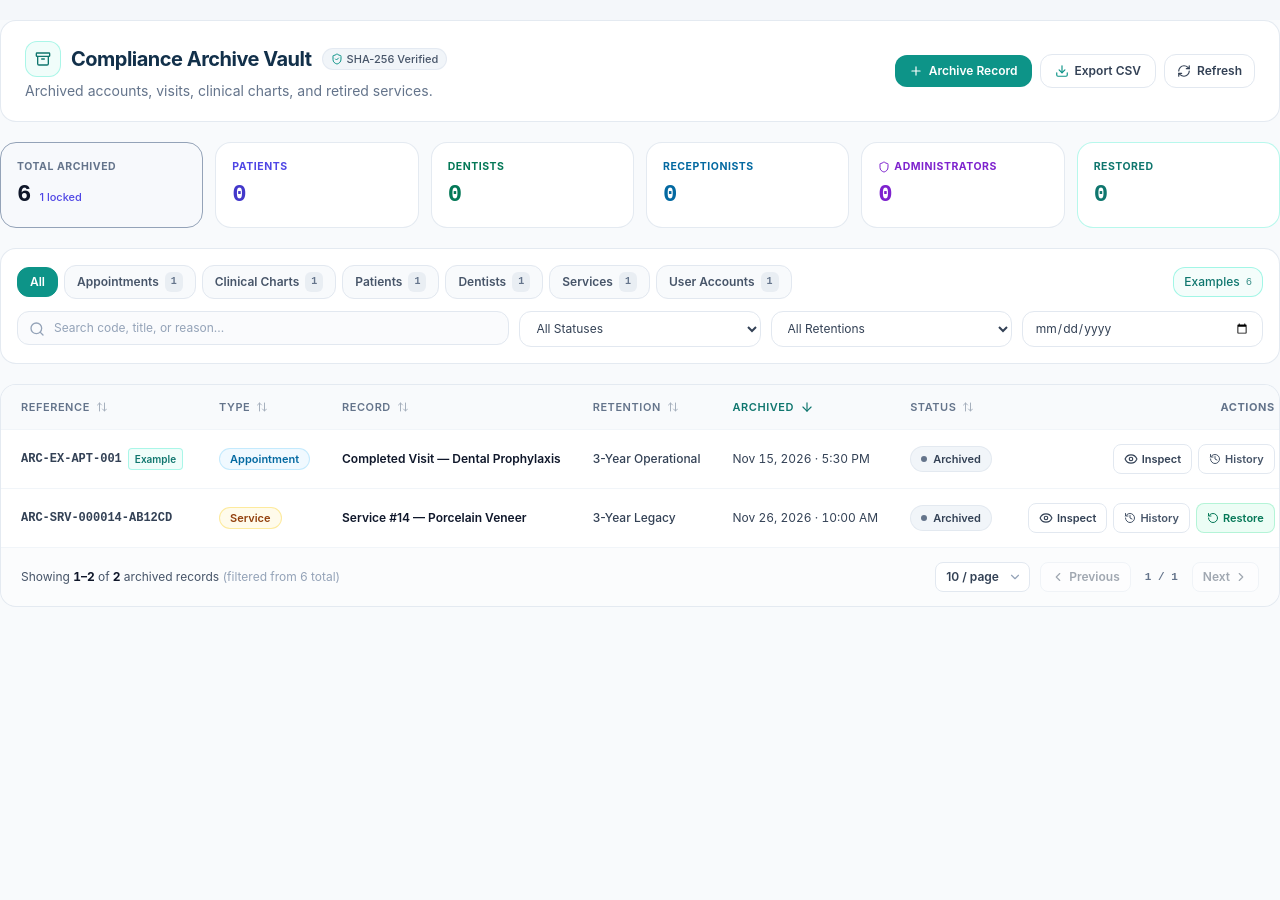
ArchiveCenterPage (Role-Aware Compliance Archive Vault) › renders Admin Archive Vault with KPIs, Example badges, snapshot SHA-256 inspector, archive creation, and restore flow
Later steps or results of the test are not shown.
expect the heading "Compliance Archive Vault" is shown: met, box top-left (71, 45), bottom-right (312, 73)
expect the text "ARC-EX-APT-001" is shown: met, box top-left (21, 451), bottom-right (122, 467)
Note: Inspect snapshot modal shows SHA-256 verification badge and preserved fields
Click the button with aria-label "Inspect ARC-SRV-000014-AB12CD".
click(1068, 518)  # box top-left (1028, 503), bottom-right (1107, 533)
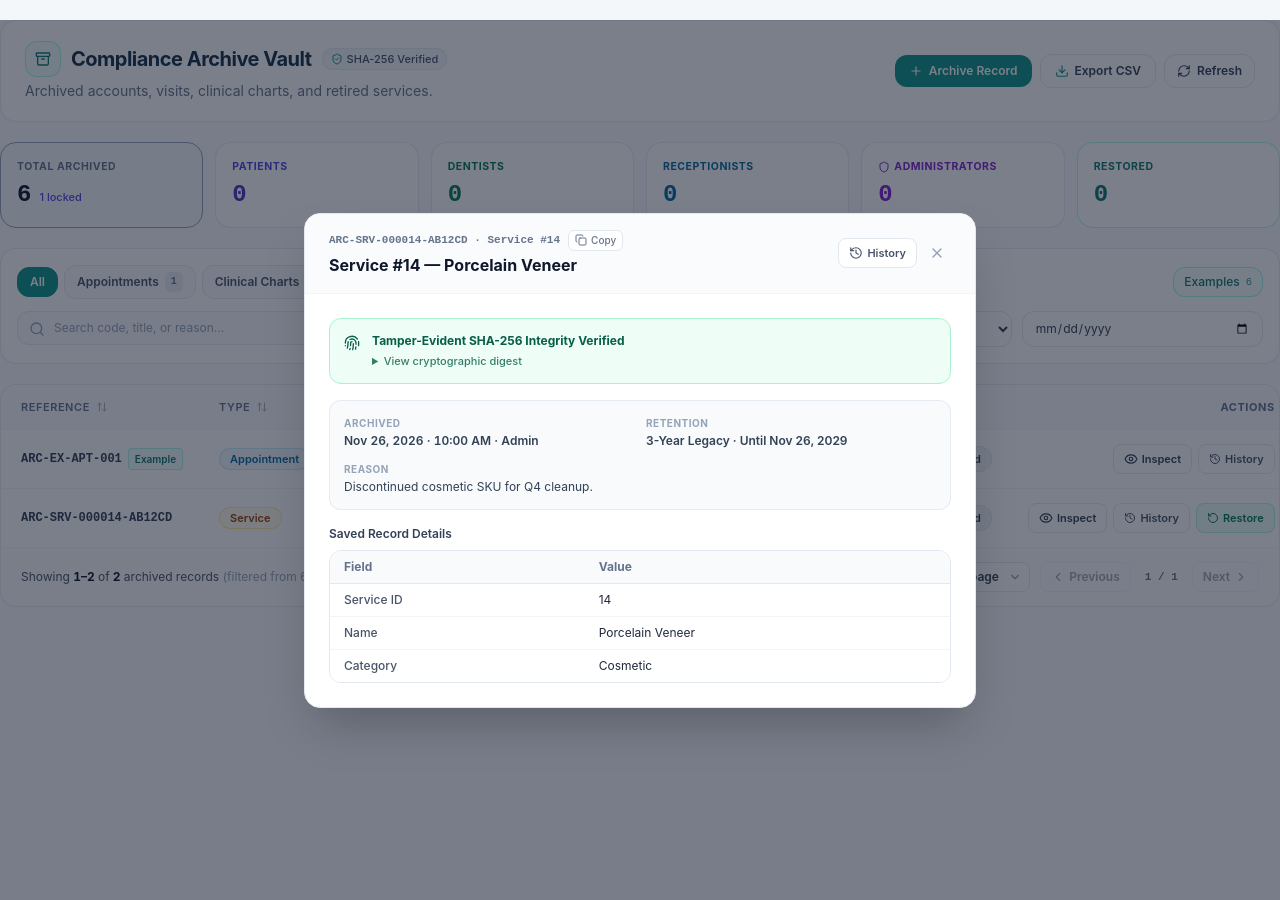
expect the text "Tamper-Evident SHA-256 Integrity Verified" is shown: met, box top-left (372, 332), bottom-right (624, 348)
expect the text "Porcelain Veneer" is shown: met, box top-left (585, 616), bottom-right (950, 649)
